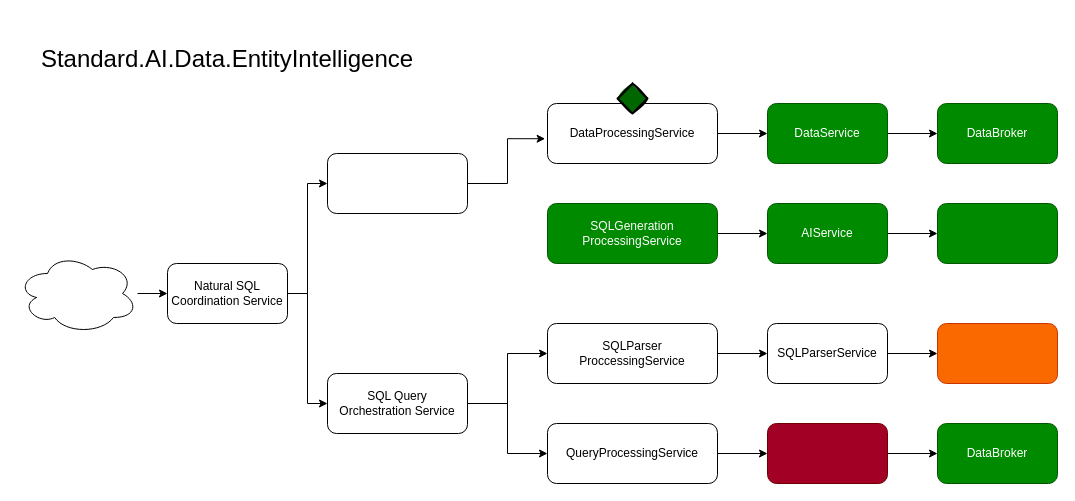
Some shapes in this 1075 by 501 pixel diagram are drawn without their labels. Here are the shapes that lost their labels. From the top down, the centre of each, then its label:
(397,183): SQLGeneration Orchestration Service
(997,233): OpenAIBroker
(77,293): Client
(997,353): SQLParserBroker
(827,453): QueryService
